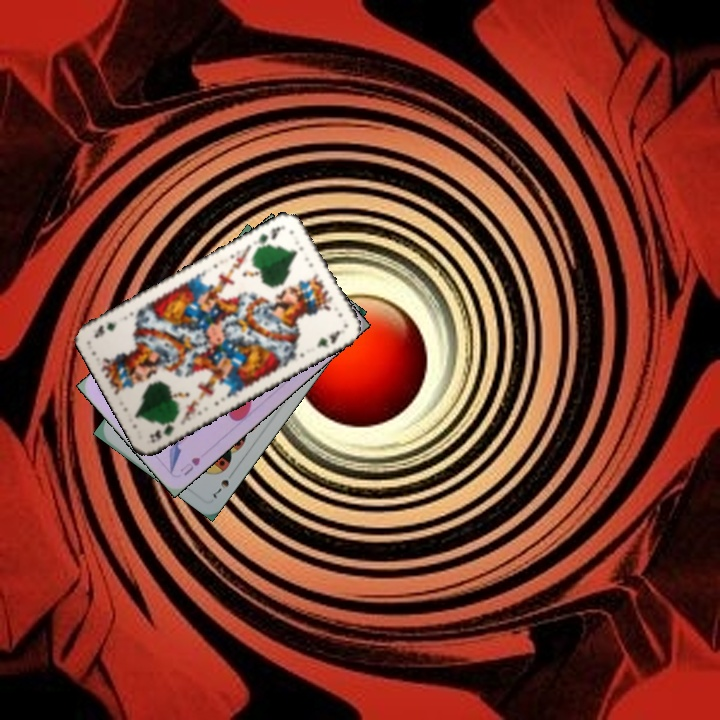GK: (145, 414, 180, 445), (253, 221, 288, 251)
HU: (176, 453, 203, 478)
S7: (209, 475, 232, 501)
